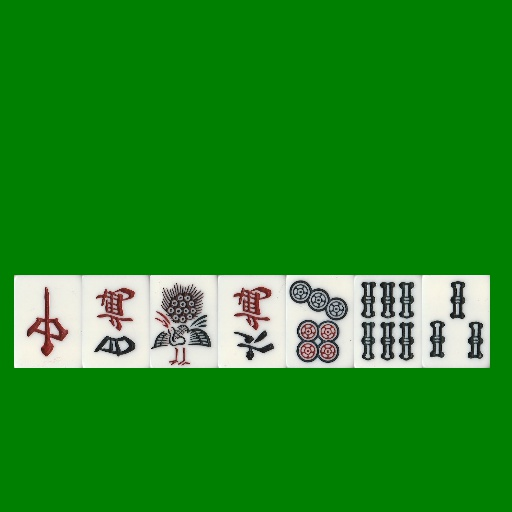1s: (150, 275, 218, 368)
3s: (422, 275, 490, 368)
4m: (82, 275, 150, 368)
6m: (218, 275, 286, 368)
6s: (354, 275, 422, 368)
7p: (286, 275, 354, 368)
tyun: (14, 275, 82, 368)
